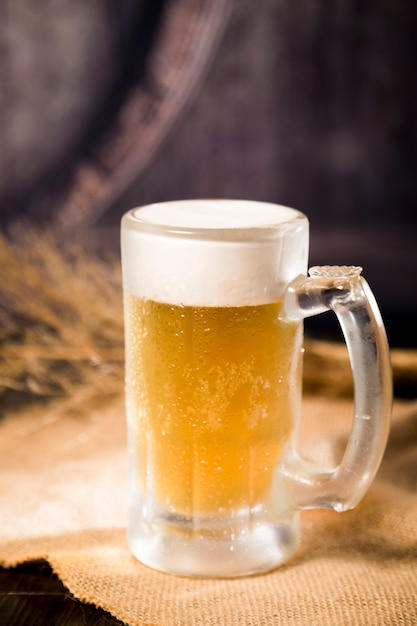alcohol: (122, 196, 392, 583)
